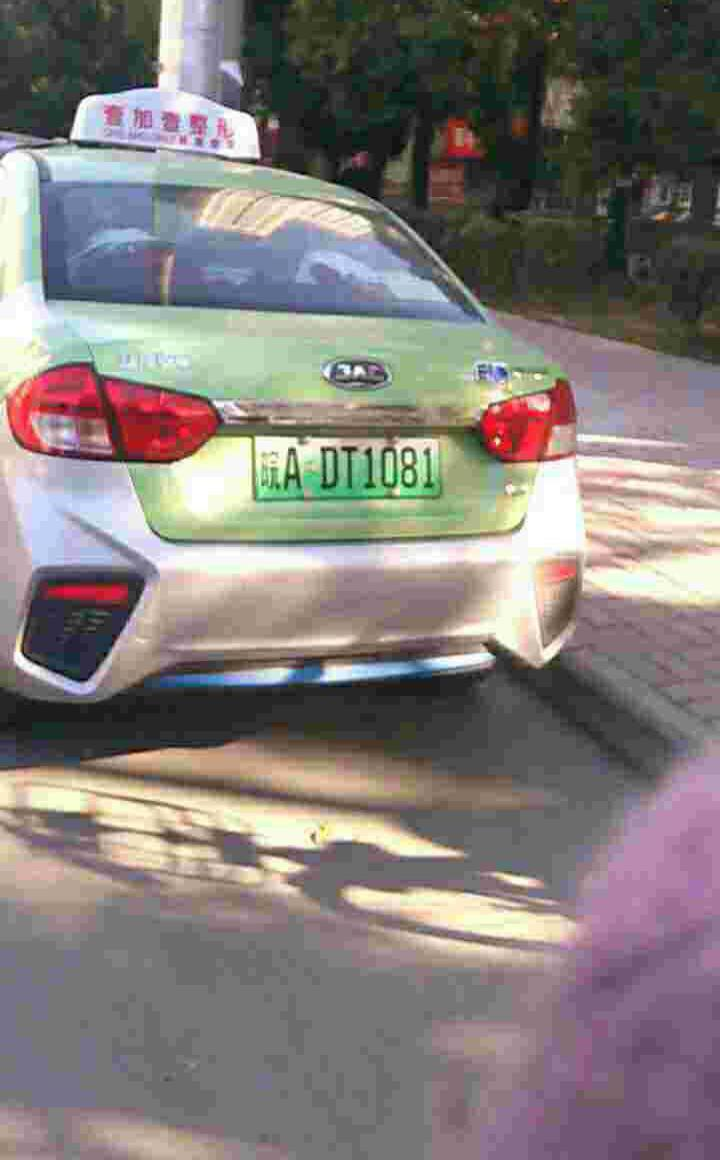car_green: (247, 430, 448, 502)
